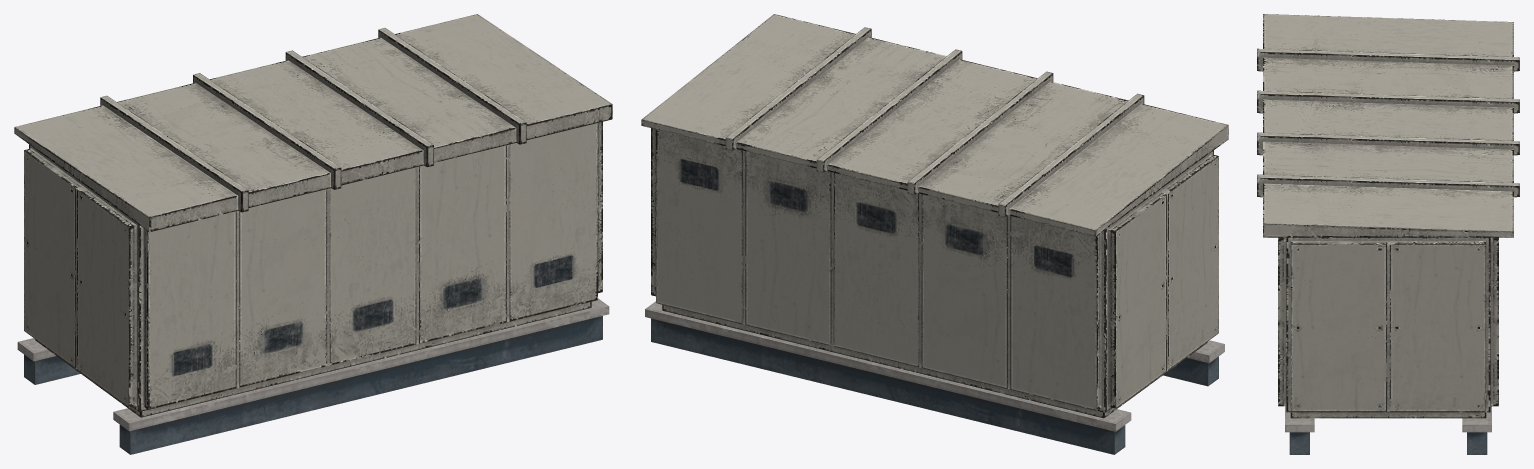
File: jctRoofEquipCrtlA.fbx
3 views of the same model, side by side, from view 1: azimuth 30°, elevation 25°; view 2: azimuth 150°, elevation 25°; view 3: azimuth 270°, elevation 25° (orthographic). The views are drawn at different scales.
Parts seen in each view (by area): view 1: jctRoofEquipCrtlA; view 2: jctRoofEquipCrtlA; view 3: jctRoofEquipCrtlA.
Boxes of the visible parts, <box> form: jctRoofEquipCrtlA: <box>14,14,612,454</box>; jctRoofEquipCrtlA: <box>641,14,1228,454</box>; jctRoofEquipCrtlA: <box>1257,14,1519,454</box>.
Size of the model in its own units: 610 by 307 by 312.
